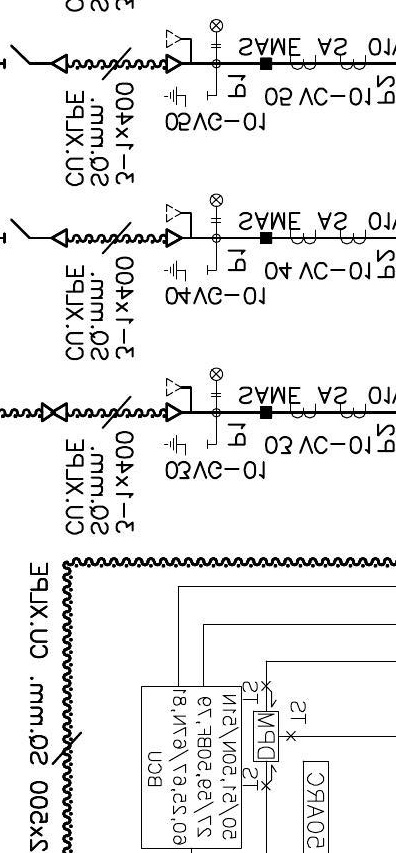22_gs: (164, 259, 210, 283), (164, 434, 210, 457), (164, 86, 210, 109)
22_ll: (209, 367, 224, 398), (209, 193, 224, 224), (209, 18, 224, 49)
DPM: (252, 710, 280, 763)
terminator_single: (51, 53, 69, 75), (51, 227, 69, 249)
terminator_splicing_kits: (41, 402, 69, 423)
terminator_w_future: (164, 376, 194, 423), (164, 29, 194, 76), (165, 202, 194, 249)
